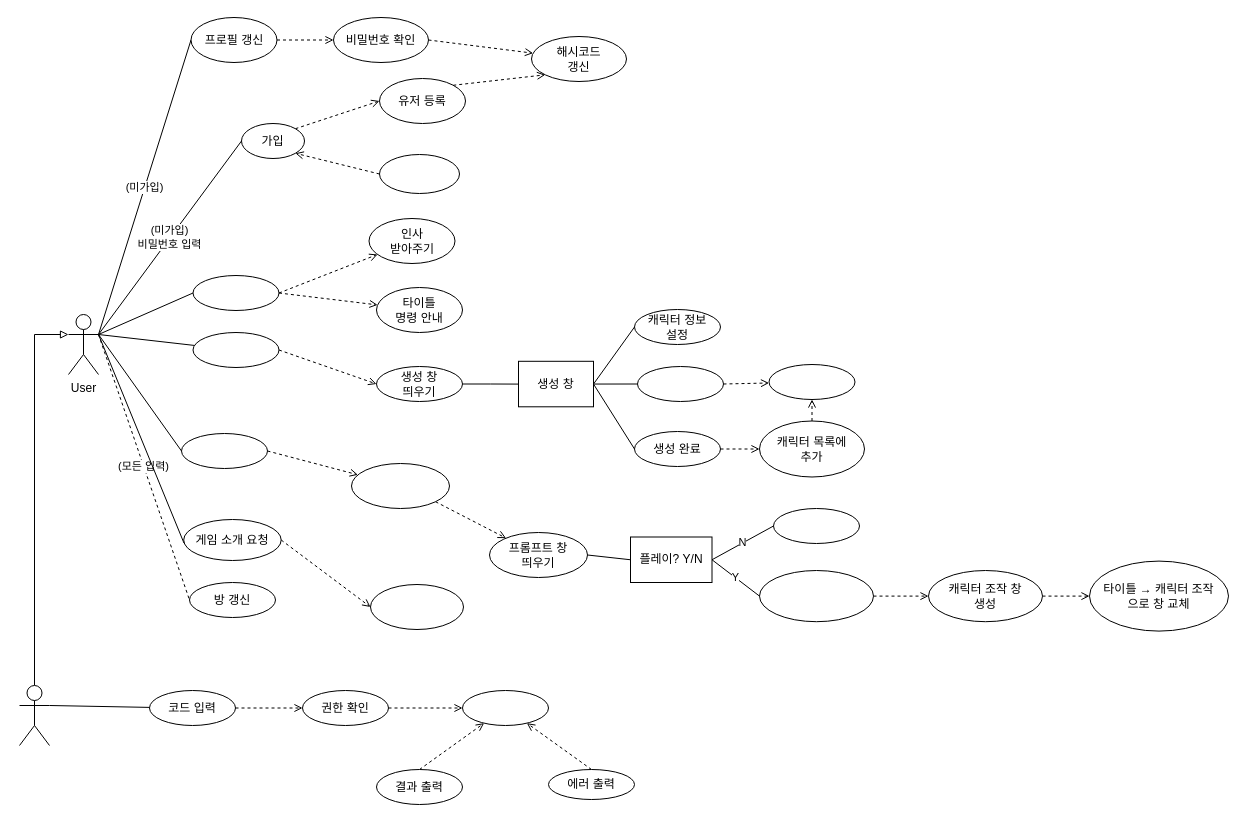
This 1246x822 diagram has some shape labels left out. The box of each missing label's shape, as (x1, y1, x2, y2) in pixels:
Admin: (18, 684, 50, 746)
가입 에러: (378, 154, 460, 194)
게임 소개 텍스트 출력: (370, 584, 464, 630)
생성 창 닫기: (768, 364, 855, 400)
생성 취소: (636, 366, 724, 402)
인사: (192, 274, 279, 310)
접속+환영 메시지 출력: (758, 570, 874, 622)
캐릭터 생성: (192, 332, 279, 368)
캐릭터 선택: (180, 432, 268, 468)
캐릭터 정보 출력: (350, 462, 450, 508)
코드 실행: (462, 690, 548, 726)
프롬프트 닫기: (772, 508, 860, 544)
